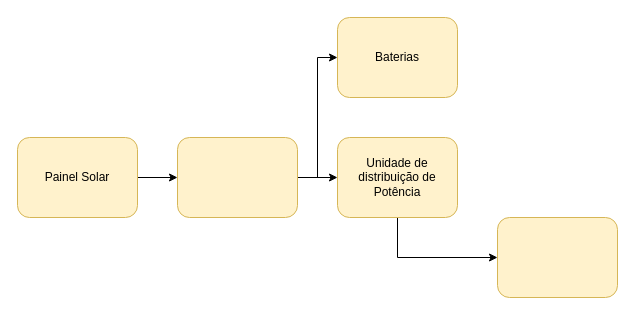
The diagram is 635 pixels wide and 315 high, and some of its shapes have lost their labels. Here are the shapes that lost their labels. From the top down, the centre of each, then its label:
point 237,177: Unidade de Condicionamento de Potencia
point 557,257: PAYLOAD Carga(s)
